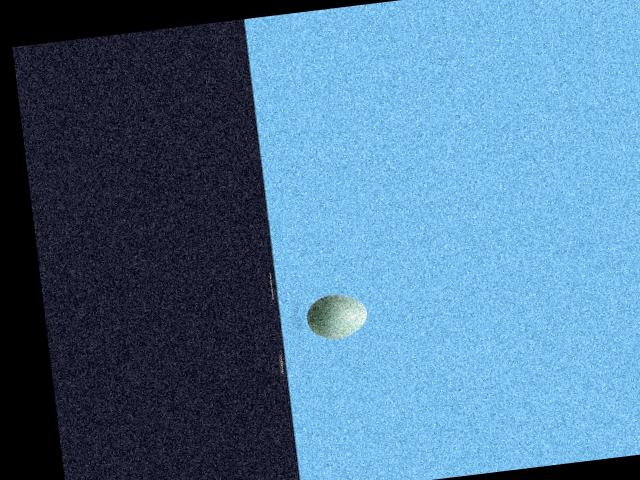egg: (305, 290, 369, 341)
